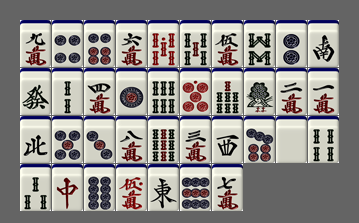0m: (116, 164, 147, 211)
0p: (180, 68, 211, 115)
0s: (148, 20, 179, 67)
1m: (308, 68, 339, 115)
1p: (116, 68, 147, 115)
1s: (244, 68, 275, 115)
1z: (148, 164, 179, 211)
2m: (276, 68, 307, 115)
2p: (276, 20, 307, 67)
2s: (52, 68, 83, 115)
2z: (308, 20, 339, 67)
3m: (180, 116, 211, 163)
3p: (84, 116, 115, 163)
3s: (20, 164, 51, 211)
3z: (212, 116, 243, 163)
4m: (84, 68, 115, 115)
4p: (52, 20, 83, 67)
4s: (308, 116, 339, 163)
4z: (20, 116, 51, 163)
5m: (212, 20, 243, 67)
5p: (52, 116, 83, 163)
5s: (180, 20, 211, 67)
5z: (276, 116, 307, 163)
6m: (116, 20, 147, 67)
6p: (84, 20, 115, 67)
6s: (148, 68, 179, 115)
6z: (20, 68, 51, 115)
7m: (212, 164, 243, 211)
7p: (244, 116, 275, 163)
7s: (212, 68, 243, 115)
7z: (52, 164, 83, 211)
8m: (116, 116, 147, 163)
8p: (84, 164, 115, 211)
8s: (244, 20, 275, 67)
9m: (20, 20, 51, 67)
9p: (180, 164, 211, 211)
9s: (148, 116, 179, 163)
